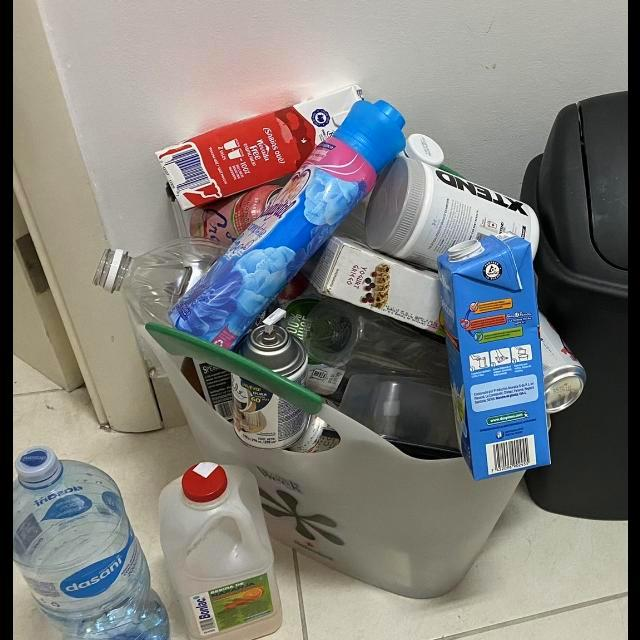aluminum: (230, 374, 308, 450), (229, 308, 307, 382), (189, 185, 281, 247), (538, 312, 586, 415)
cardboard: (299, 237, 441, 332)
plastic_bottle: (167, 100, 405, 349), (12, 446, 169, 640), (92, 237, 231, 327)
plastic_container: (157, 462, 282, 640), (364, 156, 540, 270), (337, 375, 462, 460)
